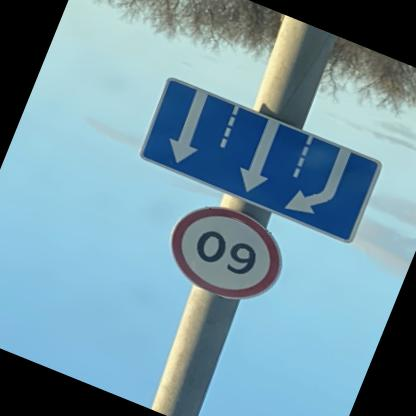speedlimit: (156, 193, 298, 318)
